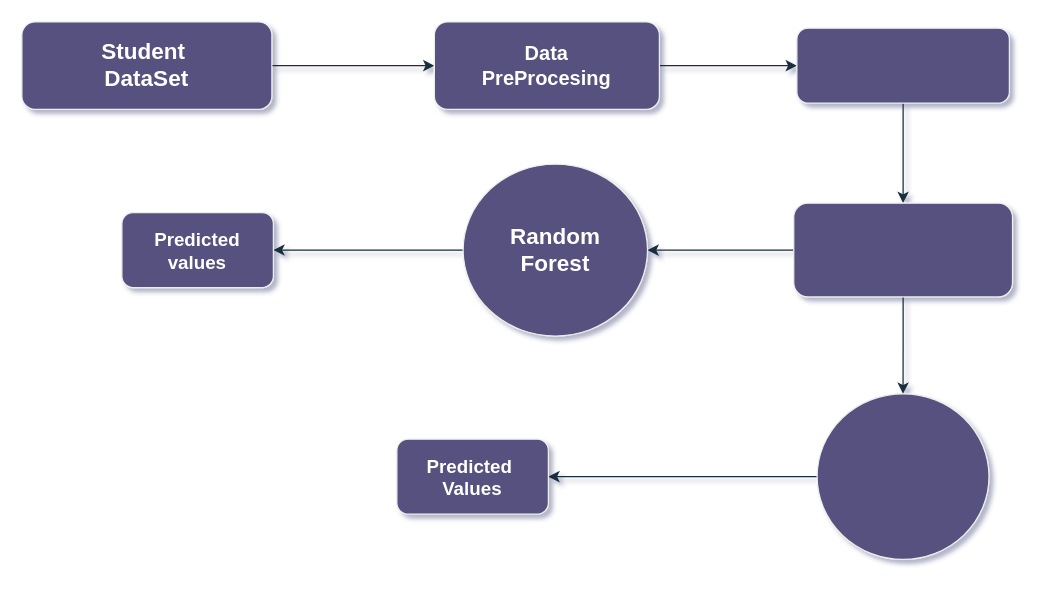
Image size: 1043x589. Some labels were removed from this diagram. The box of each missing label's shape, as (x1, y1, x2, y2) in pixels:
CoRelation Graph: (796, 27, 1009, 103)
DataSet Split: (792, 202, 1012, 297)
Ridge Regression: (816, 392, 989, 559)
